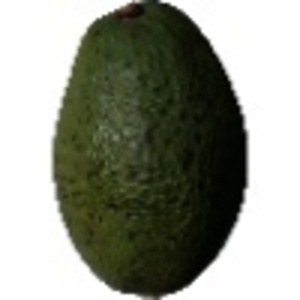abacate: (49, 2, 249, 295)
